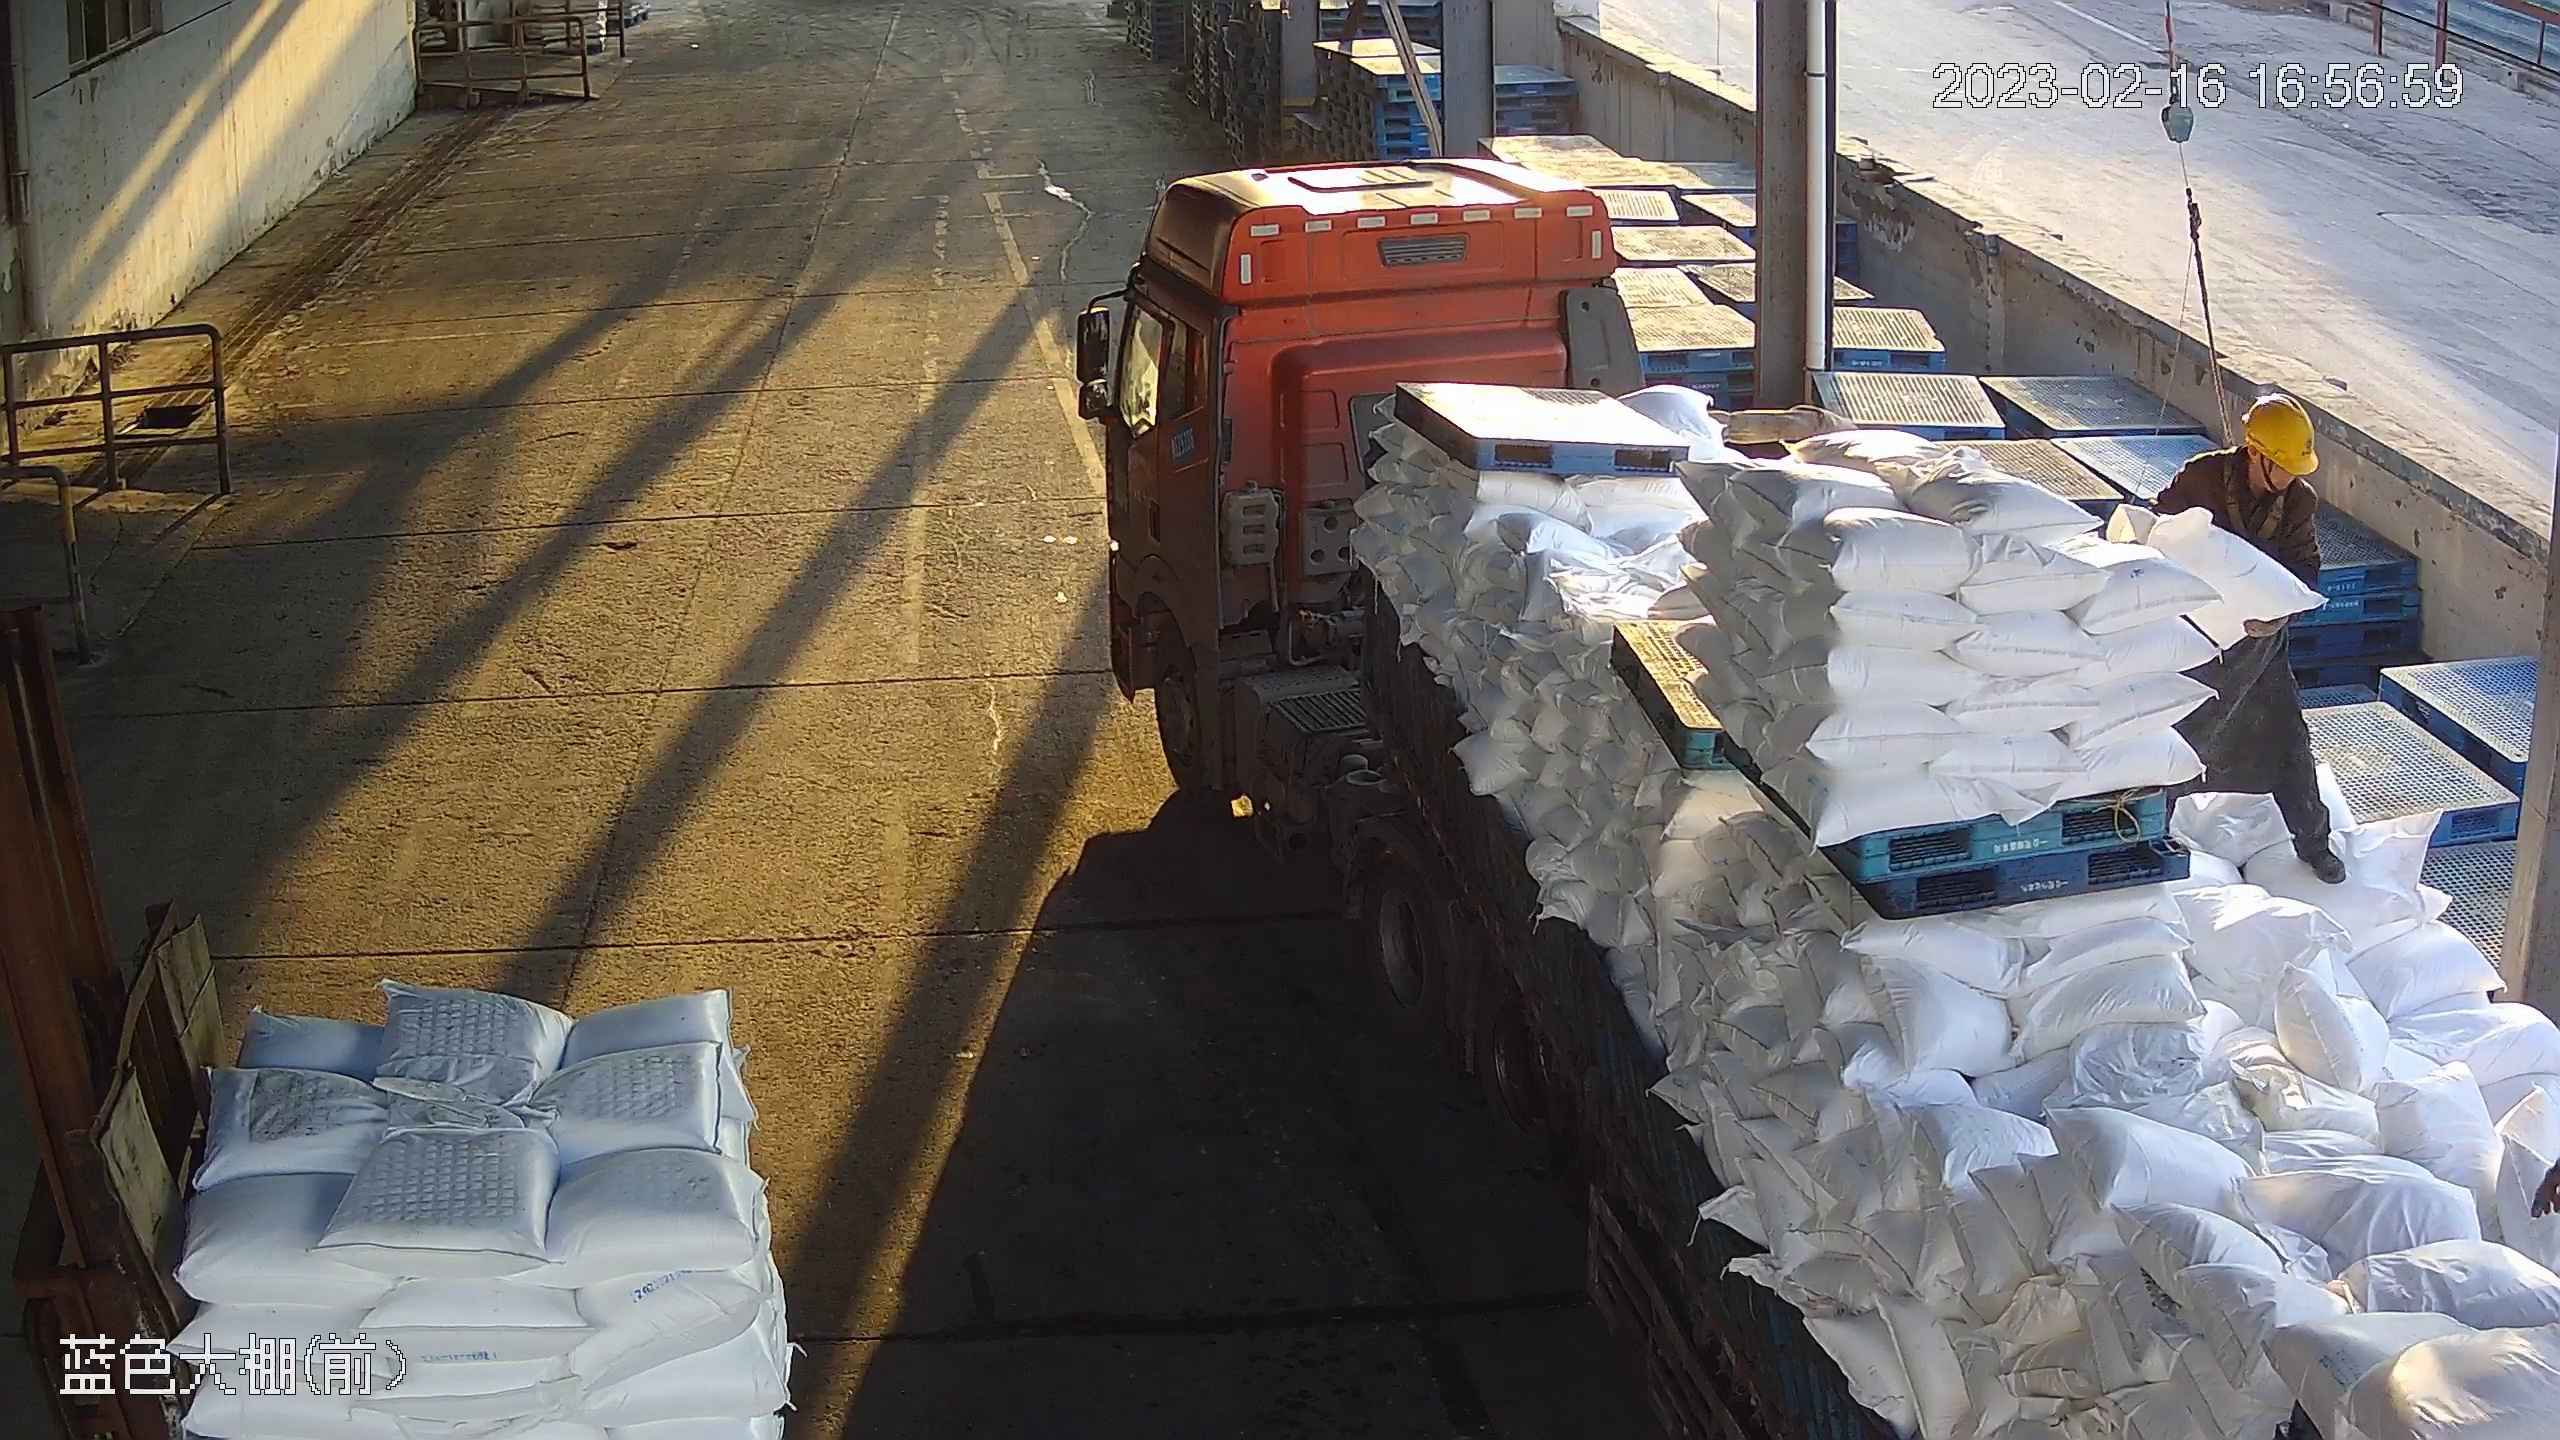belt: (2218, 443, 2290, 543)
head: (2155, 375, 2329, 536)
helmet: (2244, 390, 2344, 475)
truck: (1042, 166, 2560, 1440)
